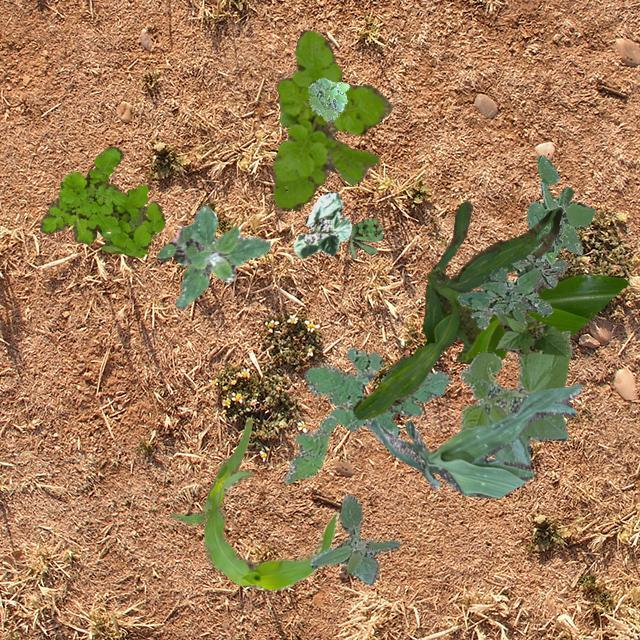crop: (352, 200, 628, 418), (168, 416, 338, 590), (365, 384, 581, 496), (458, 328, 570, 476), (292, 190, 350, 256), (494, 312, 568, 356)
weed: (284, 347, 450, 482), (272, 28, 392, 210), (39, 144, 164, 256), (156, 205, 270, 308), (456, 254, 568, 328), (308, 494, 398, 584), (526, 154, 594, 264), (306, 76, 348, 122), (346, 216, 384, 258)
